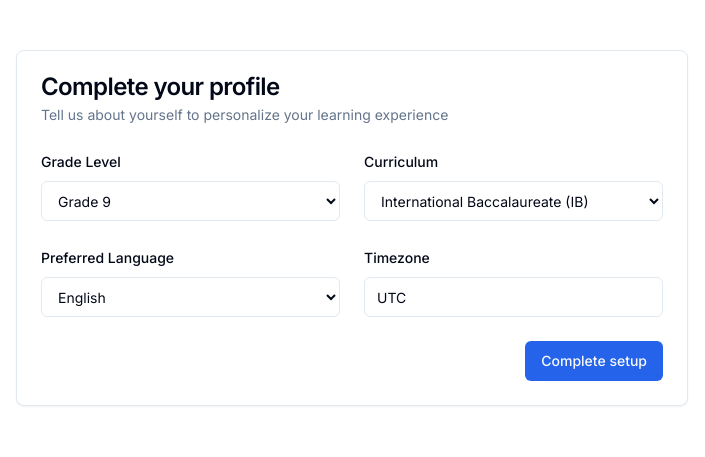
Test: SetupProfilePage › Profile Creation - Error Cases › should handle duplicate profile error
The width and height of the screenshot is (705, 457).
Click the button "Complete setup": (594, 361) top-left (525, 341), bottom-right (663, 381)
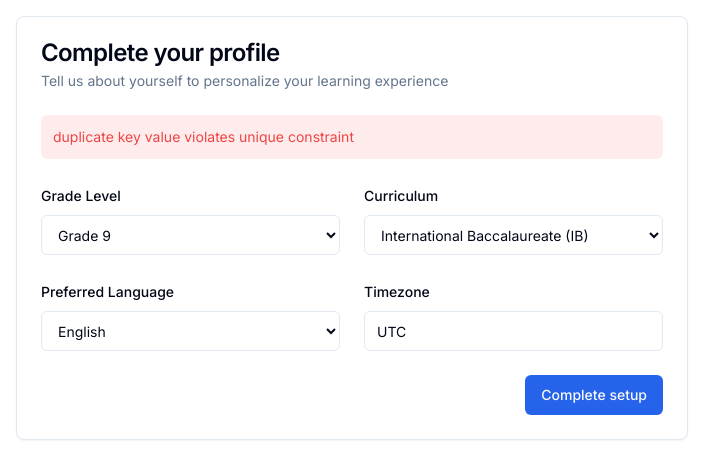
Result: the text "duplicate key value violates unique constraint" is shown at top-left (41, 115), bottom-right (663, 159)
